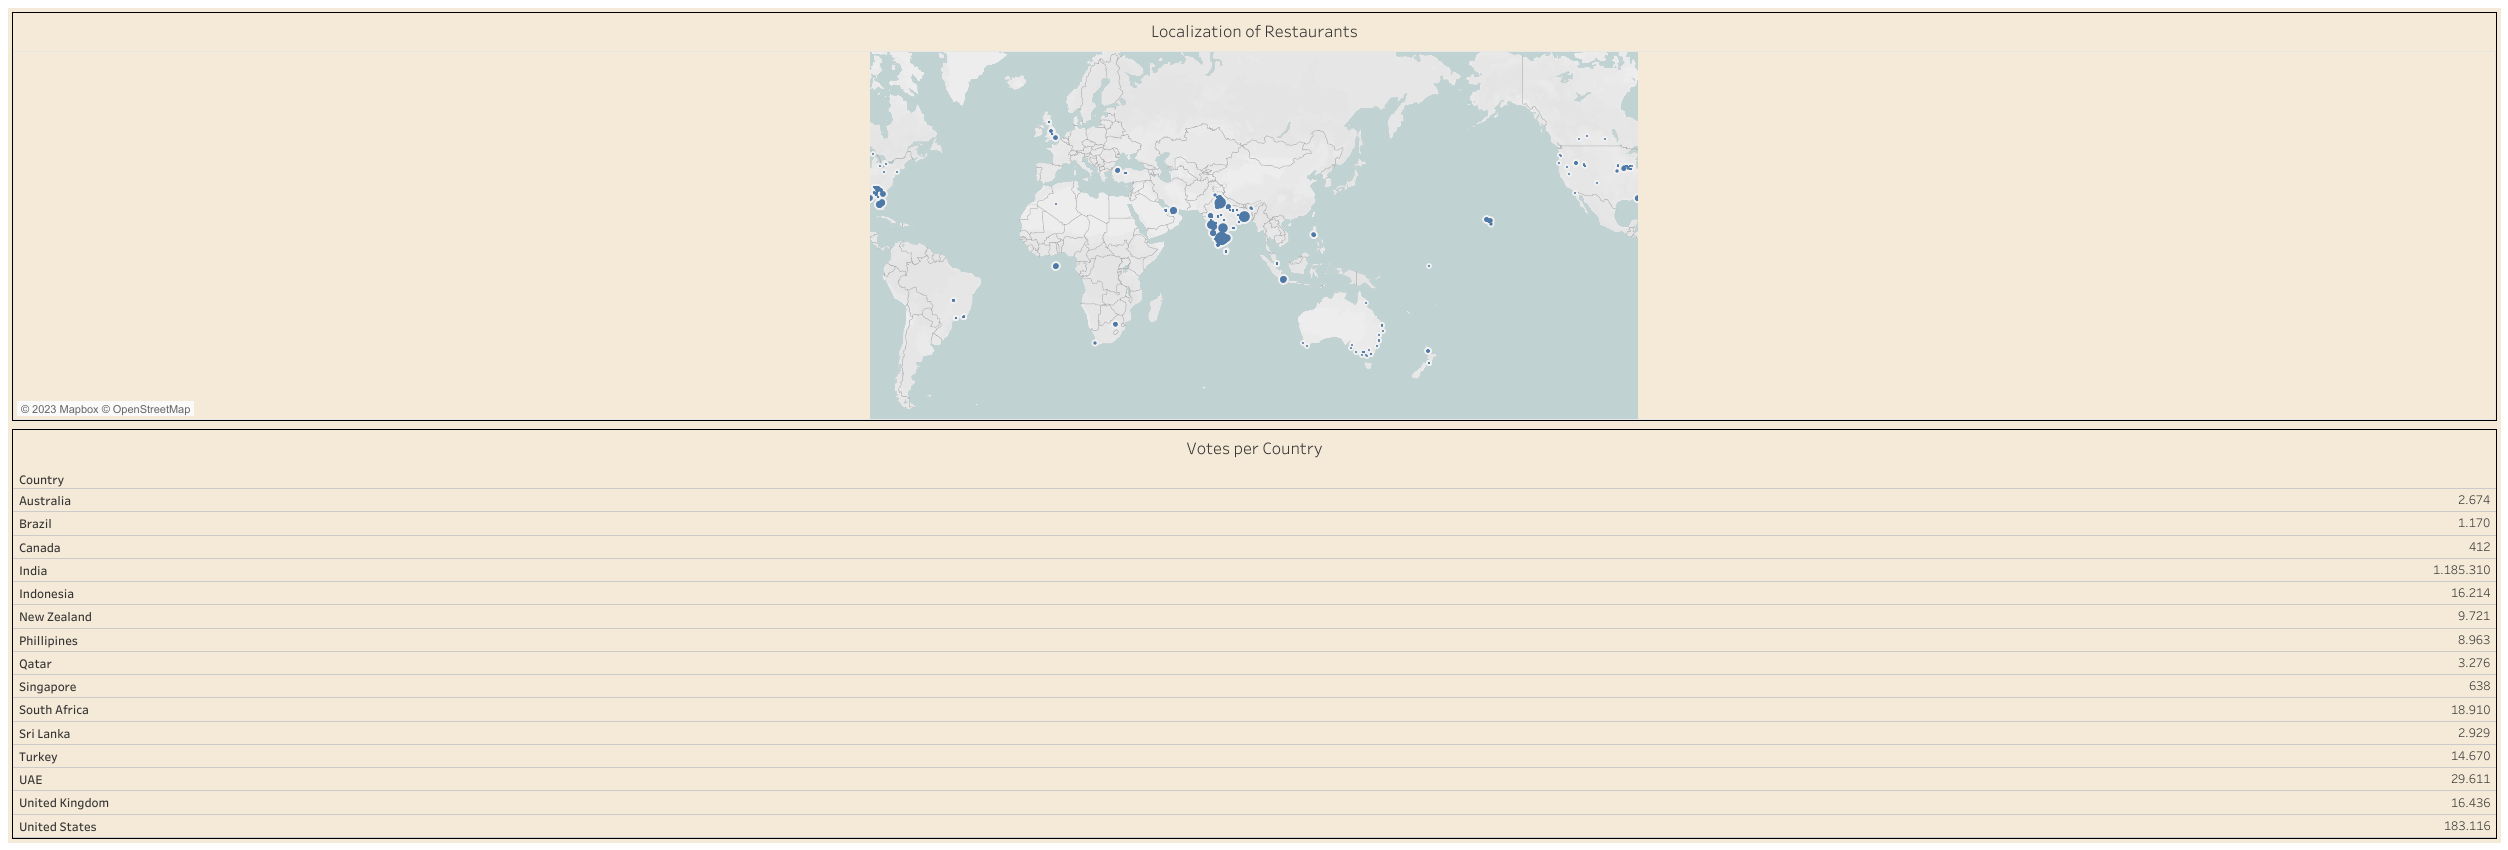

The page's visual inventory and layout, read from the dashboard file:
{"tool":"tableau","page":{"name":"Dashboard 1","canvas":[1000,1000],"units":"permille","ordinal":0},"visuals":[{"type":"worksheet","title":"City","mark":"Automatic","rows":["Latitude"],"cols":["Longitude"],"box":[7.5,15,985,485]},{"type":"worksheet","title":"Country","mark":"Automatic","rows":["Country"],"box":[7.5,500,985,485.1]}]}

Visuals, with their boxes on the dashboard's canvas, which has no fixed pixel size, in thousandths of its width and height (x1, y1, x2, y2). These are canvas units, not pixel positions in the 2508x850 screenshot, which may show the page scaled, cropped or inside an application window:
"City" worksheet: [x1=8, y1=15, x2=992, y2=500]
"Country" worksheet: [x1=8, y1=500, x2=992, y2=985]
